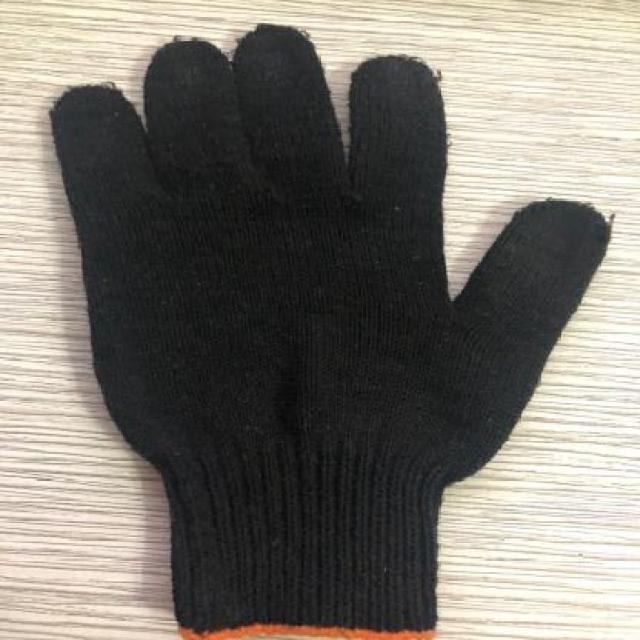glove: (47, 22, 614, 639)
